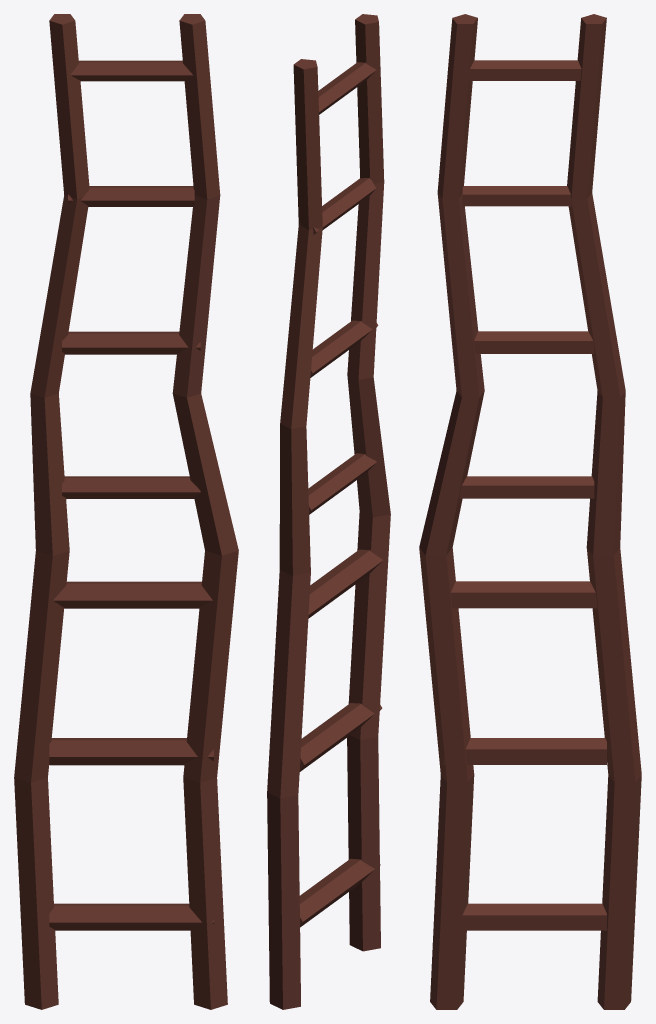
File: StiltLadder_Large.fbx
The picture shows the model from 3 angles, left to right: view 1: azimuth 90°, elevation 25°; view 2: azimuth 150°, elevation 25°; view 3: azimuth 270°, elevation 25°; orthographic projection. The views are drawn at different scales.
Visible parts, largest first — view 1: Ladder_2; view 2: Ladder_2; view 3: Ladder_2.
Boxes of the visible parts, x1,y1,x2,y2 form: Ladder_2: (14, 14, 238, 1009); Ladder_2: (267, 14, 390, 1009); Ladder_2: (419, 14, 641, 1009).
Size of the model in its own units: 10.32 by 278 by 57.34.
